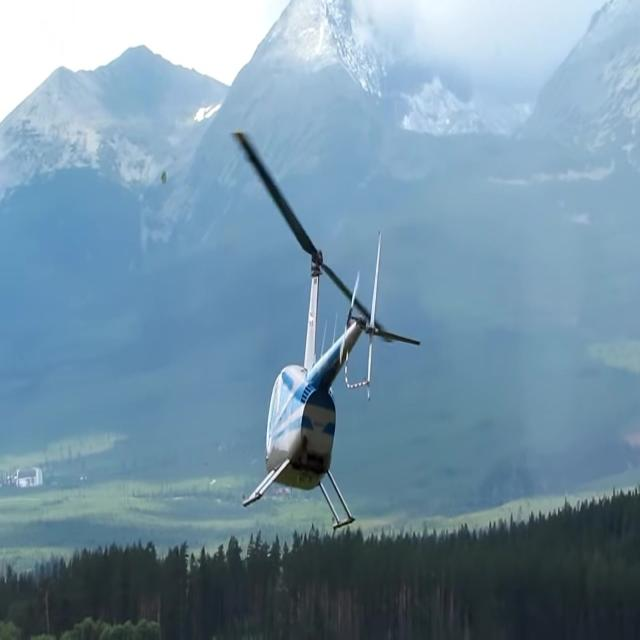CIV_HELO: (242, 228, 382, 530)
